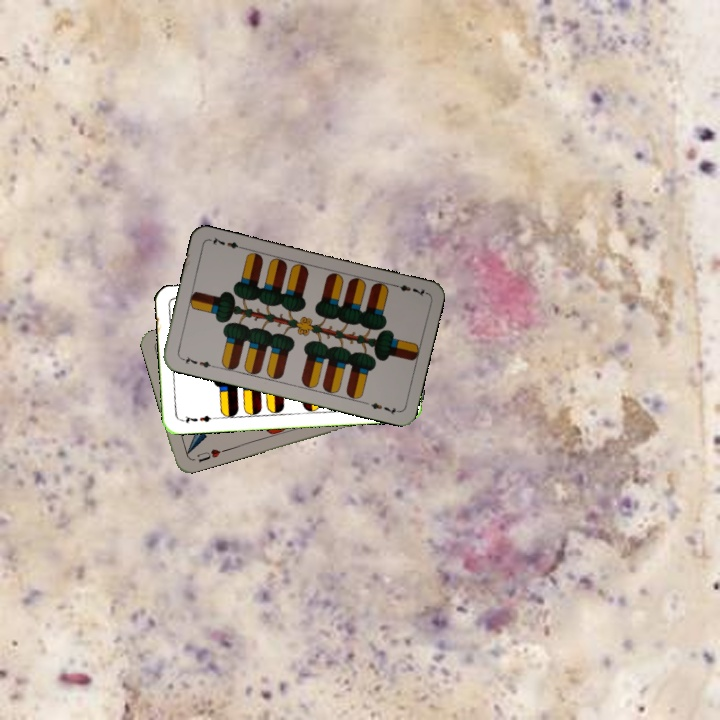E7: (177, 352, 217, 371), (389, 280, 429, 298), (177, 411, 217, 426)
HU: (193, 445, 228, 465)
